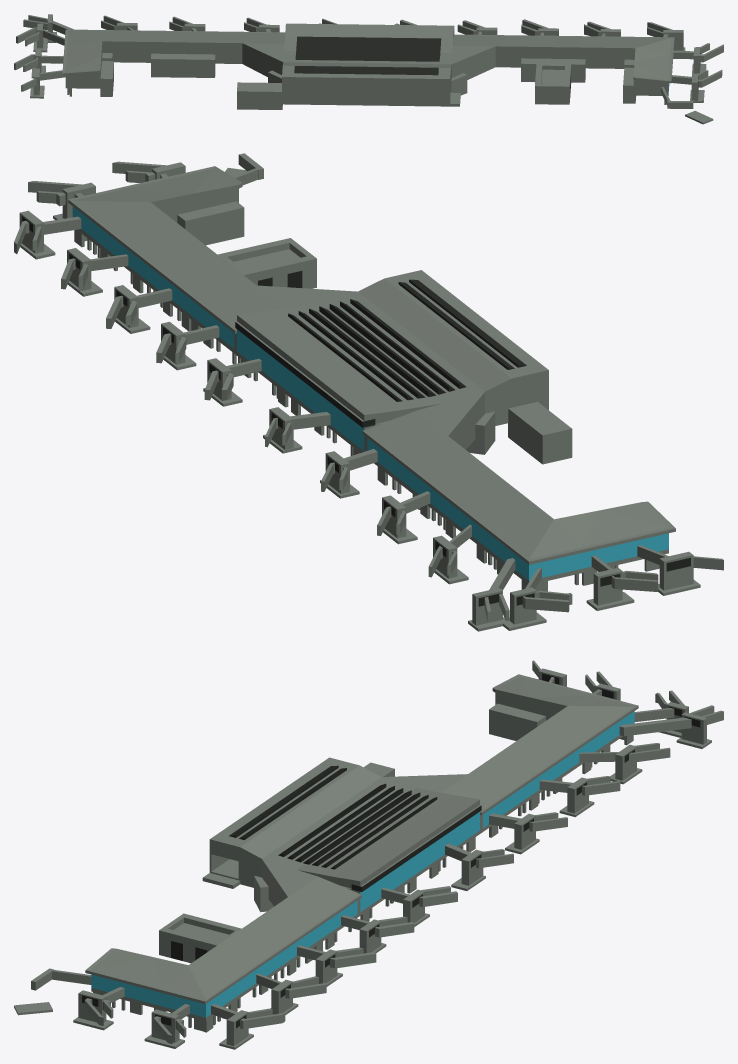
Rendered from ConD.obj.
3 renders of one model, top to bottom at view 1: azimuth 30°, elevation 25°; view 2: azimuth 150°, elevation 25°; view 3: azimuth 270°, elevation 25°, orthographic. The views are drawn at different scales.
Bounding box in the file's own units: 768 × 49.12 × 613.
